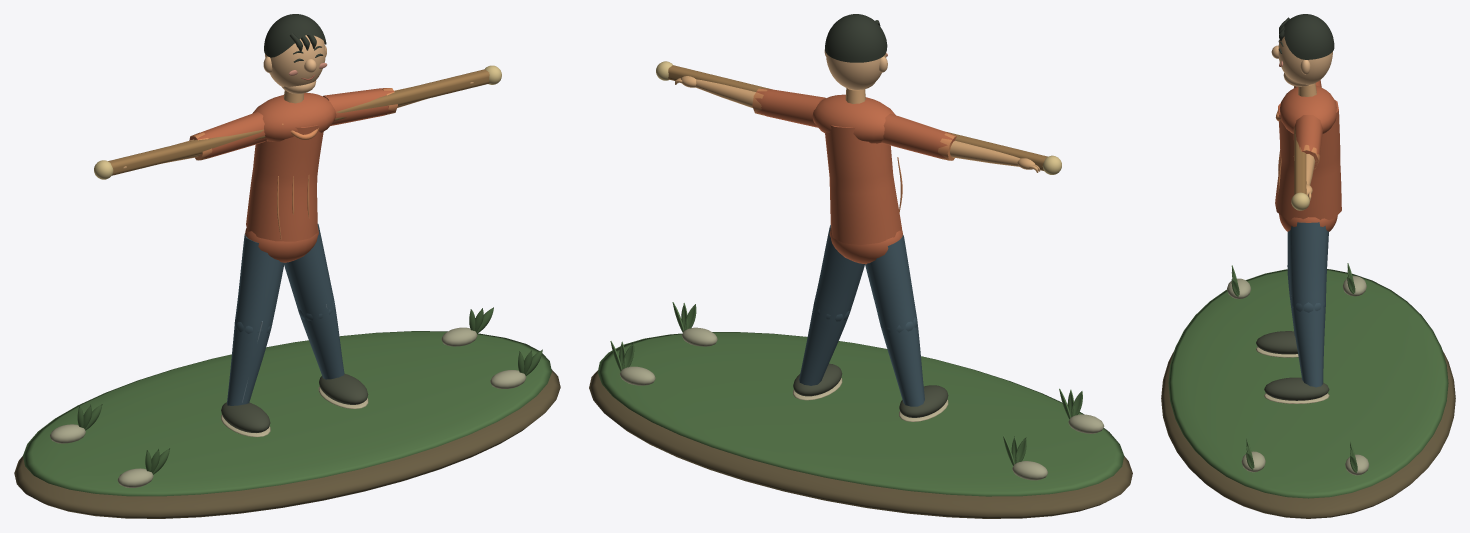
The model's file is big.glb.
3 renders of one model, left to right at view 1: azimuth 30°, elevation 25°; view 2: azimuth 150°, elevation 25°; view 3: azimuth 270°, elevation 25°, orthographic. The views are drawn at different scales.
Visible parts, largest first — view 1: big_surface_01, big_surface_03, big_surface_00, big_surface_10, big_surface_14, big_surface_11, big_surface_05, big_surface_02, big_surface_06, big_surface_09; view 2: big_surface_01, big_surface_03, big_surface_00, big_surface_10, big_surface_06, big_surface_04, big_surface_02, big_surface_11, big_surface_14, big_surface_05, big_surface_09; view 3: big_surface_01, big_surface_00, big_surface_03, big_surface_10, big_surface_06, big_surface_11, big_surface_05, big_surface_02, big_surface_14, big_surface_04, big_surface_12.
Part boxes in pixels (x1,y1,x2,y2): big_surface_01: (23, 307, 551, 496); big_surface_03: (189, 88, 394, 262); big_surface_00: (14, 369, 560, 518); big_surface_10: (227, 224, 344, 405); big_surface_14: (108, 69, 489, 175); big_surface_11: (221, 374, 368, 432); big_surface_05: (263, 35, 326, 93); big_surface_02: (50, 327, 526, 487); big_surface_06: (264, 14, 326, 62); big_surface_09: (189, 88, 397, 239); big_surface_01: (597, 302, 1124, 496); big_surface_03: (755, 88, 956, 264); big_surface_00: (589, 370, 1132, 518); big_surface_10: (799, 225, 924, 406); big_surface_06: (825, 14, 887, 62); big_surface_04: (675, 76, 1040, 172); big_surface_02: (619, 327, 1104, 480); big_surface_11: (793, 363, 948, 417); big_surface_14: (668, 65, 1047, 170); big_surface_05: (824, 49, 887, 89); big_surface_09: (752, 88, 955, 212); big_surface_01: (1168, 263, 1448, 498); big_surface_00: (1161, 350, 1455, 518); big_surface_03: (1275, 80, 1341, 231); big_surface_10: (1287, 222, 1328, 387); big_surface_06: (1278, 14, 1334, 59); big_surface_11: (1256, 331, 1329, 400); big_surface_05: (1271, 36, 1332, 86); big_surface_02: (1227, 276, 1369, 475); big_surface_14: (1294, 86, 1306, 194); big_surface_04: (1298, 83, 1316, 200); big_surface_12: (1255, 346, 1329, 403).
Bounding box in the file's own units: 4.62 × 3.67 × 2.42.
